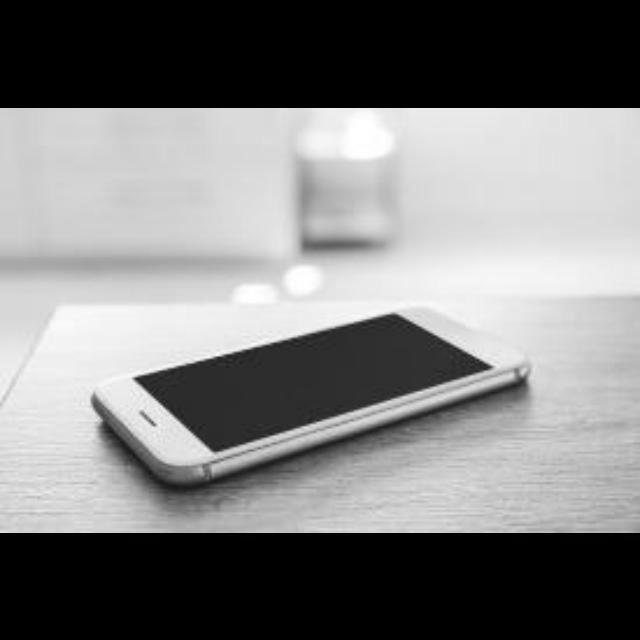fake: (141, 304, 490, 466)
